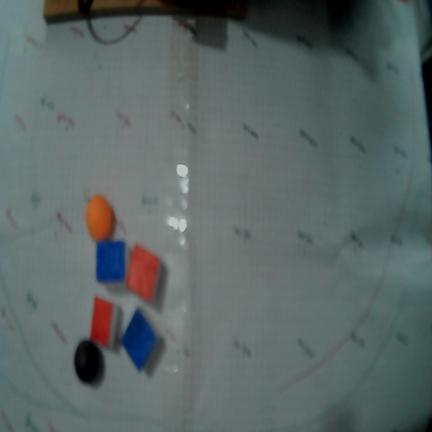circle_blue: (75, 340, 101, 383)
circle_orange: (86, 195, 113, 242)
rectangle_blue: (96, 241, 125, 283)
rectangle_orange: (90, 297, 113, 349)
square_blue: (121, 309, 157, 371)
square_orange: (126, 246, 160, 303)
